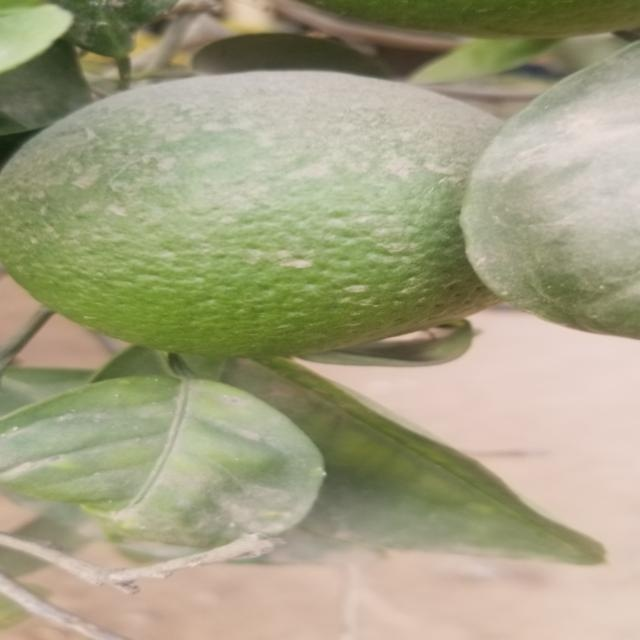agrume: (0, 69, 496, 355), (460, 32, 640, 336)
